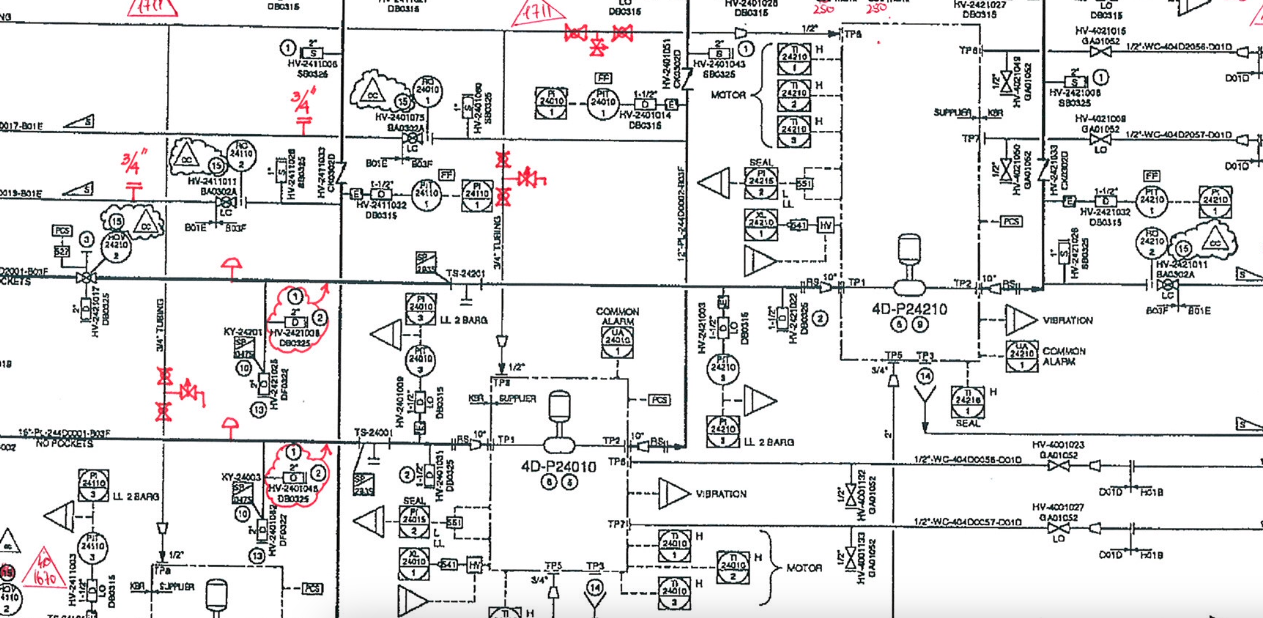Instrument: (223, 134, 261, 176), (585, 84, 624, 124), (1129, 181, 1171, 218), (703, 349, 742, 388), (99, 230, 137, 269), (74, 530, 111, 568), (1134, 225, 1170, 262), (402, 343, 438, 380)
Instrument-square: (701, 408, 745, 454), (594, 321, 640, 364), (69, 462, 112, 507), (947, 380, 990, 423), (773, 112, 816, 155), (392, 543, 434, 586), (531, 81, 571, 125), (739, 205, 782, 245), (652, 573, 694, 613), (1195, 180, 1235, 222), (400, 286, 439, 329), (710, 548, 754, 586), (741, 161, 782, 201), (395, 501, 434, 543), (1002, 338, 1042, 378), (774, 37, 815, 76), (773, 76, 815, 114), (457, 174, 495, 215), (655, 526, 694, 565)
